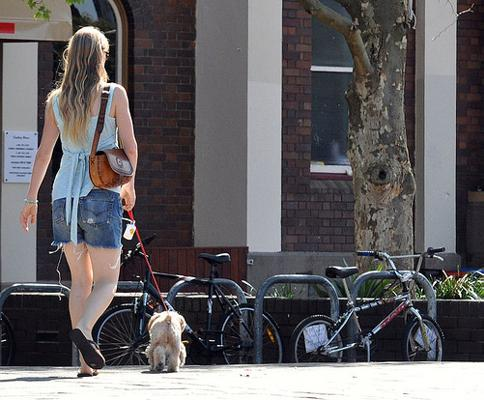person: (20, 27, 139, 383)
